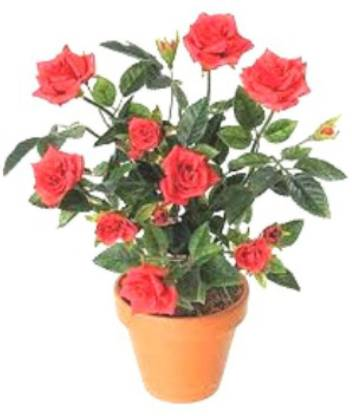plant: (3, 11, 347, 406)
